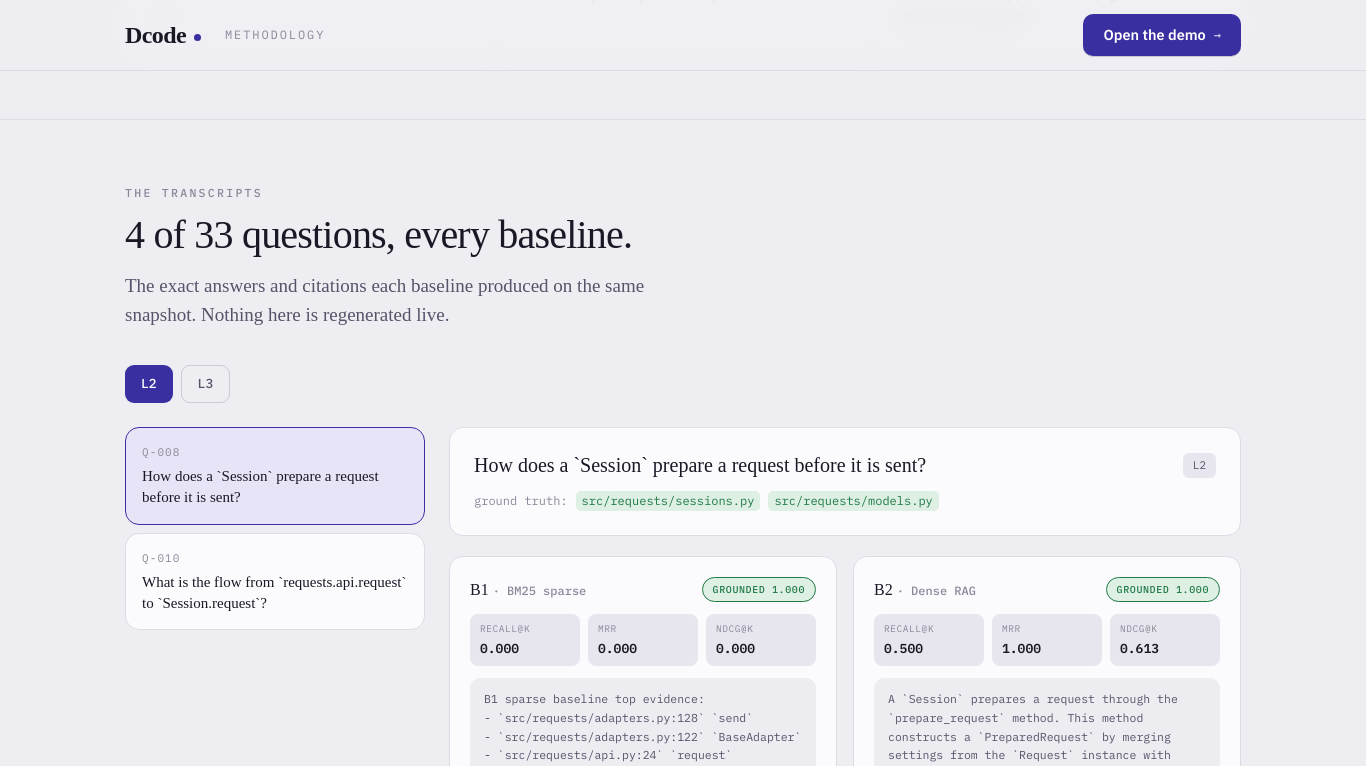
Test case: MethodologyPage › switches question transcripts by taxonomy
(page scrolled)
Expected: the text "How does a `Session` prepare a request before it is sent?" is shown, [142, 466, 408, 508]
Click the button "L3". click: (205,384)
box: [181, 365, 230, 403]
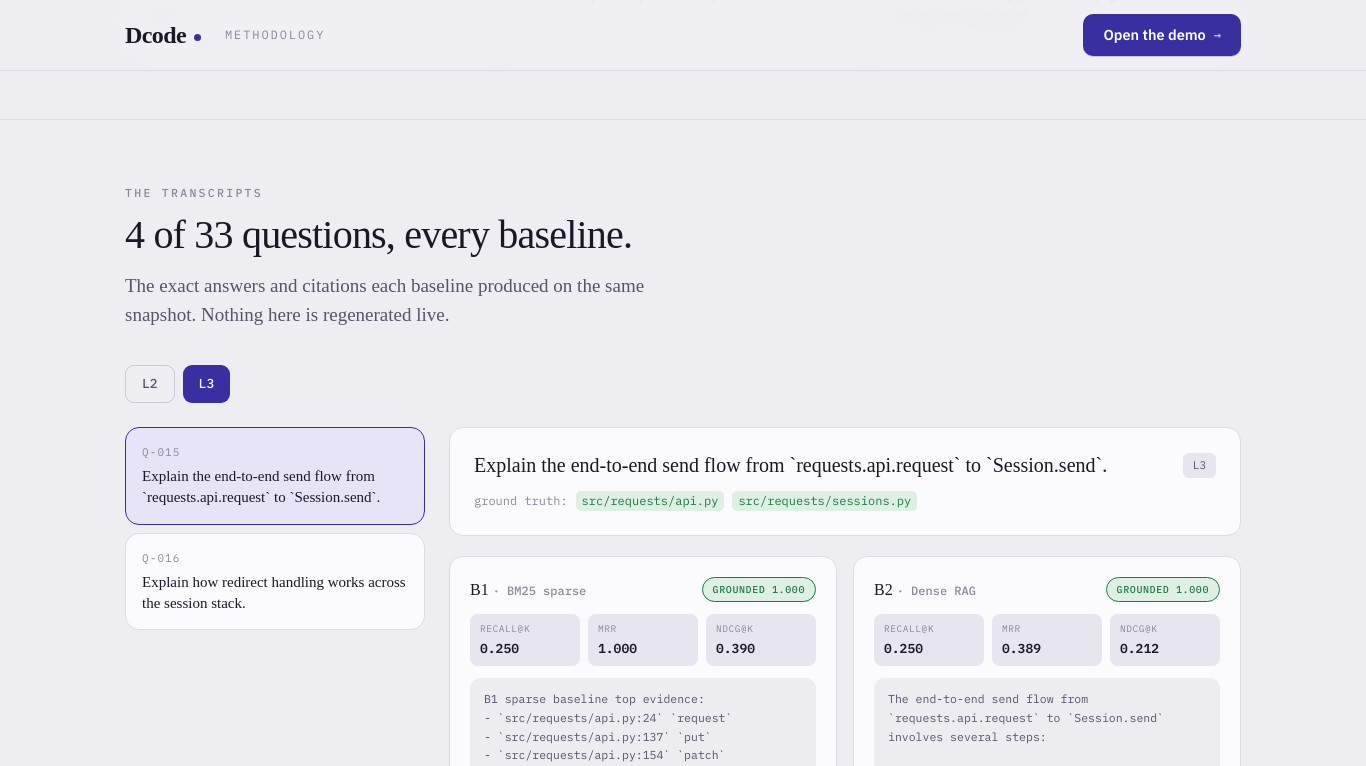
Expected: the text "end-to-end send flow" is shown, [142, 468, 380, 505]
